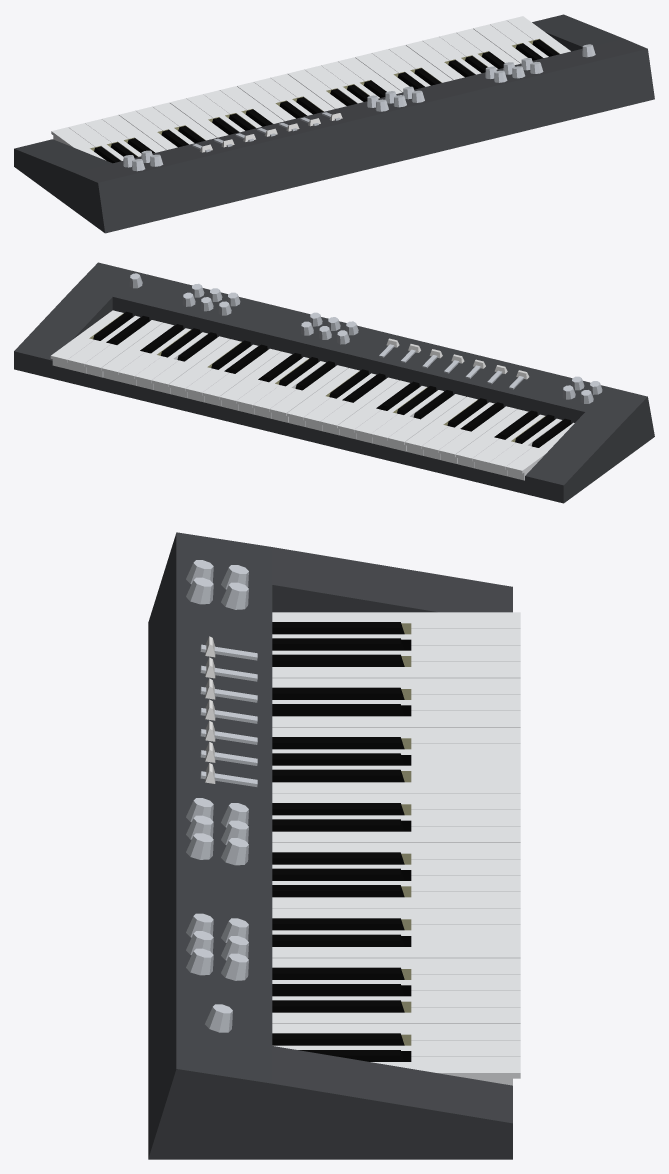
File: Synthesiser.fbx
3 renders of one model, top to bottom at view 1: azimuth 30°, elevation 25°; view 2: azimuth 150°, elevation 25°; view 3: azimuth 270°, elevation 25°, orthographic. The views are drawn at different scales.
Parts seen in each view (by area): view 1: Plane.035; view 2: Plane.035; view 3: Plane.035.
Part boxes in pixels (x1,y1,x2,y2): Plane.035: [14, 14, 654, 233]; Plane.035: [14, 262, 654, 503]; Plane.035: [148, 532, 520, 1159].
Size of the model in its own units: 2.54 by 0.7462 by 0.2334.
